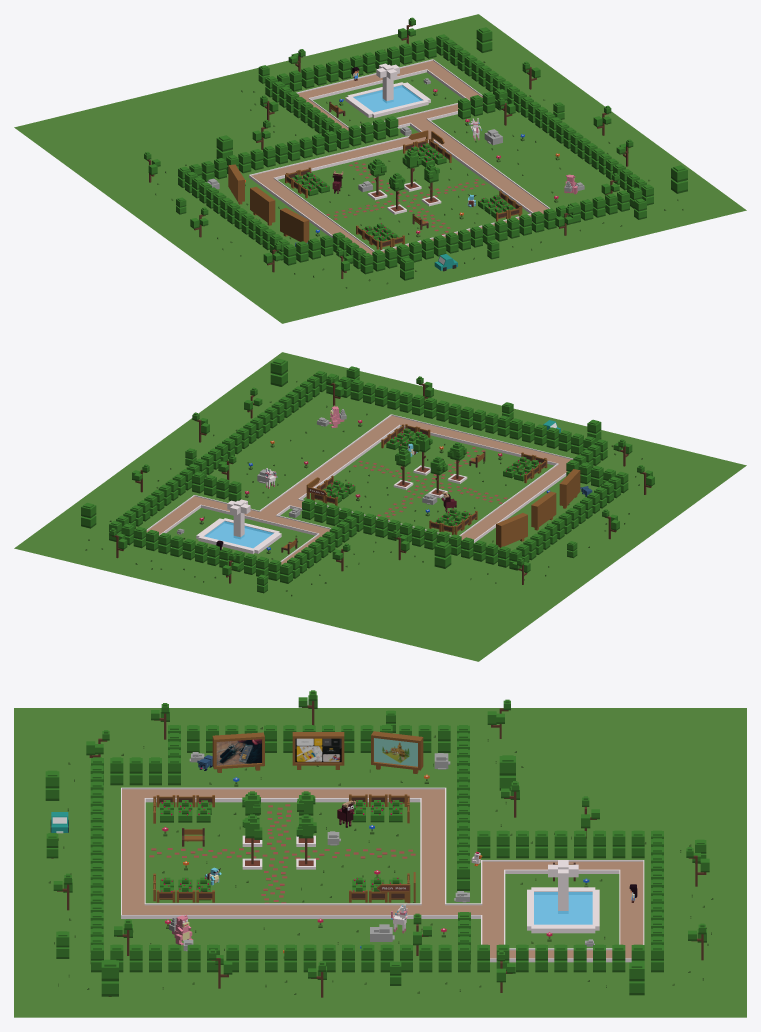
File: Portfolio.glb
The picture shows the model from 3 angles, top to bottom: view 1: azimuth 30°, elevation 25°; view 2: azimuth 150°, elevation 25°; view 3: azimuth 270°, elevation 25°; orthographic projection. The views are drawn at different scales.
Visible parts, largest first — view 1: Level, Spartner, Lepetit; view 2: Level, School, Lepetit, Spartner; view 3: Level, Spartner, School, Lepetit.
Part boxes in pixels (x1,y1,x2,y2): Level: [14, 14, 746, 323]; Spartner: [280, 208, 309, 242]; Lepetit: [250, 186, 275, 225]; Level: [14, 352, 746, 661]; School: [496, 513, 527, 547]; Lepetit: [531, 491, 556, 530]; Spartner: [559, 469, 580, 508]; Level: [14, 690, 746, 1017]; Spartner: [212, 732, 264, 772]; School: [371, 731, 423, 773]; Lepetit: [292, 732, 344, 769].
Size of what is drawn, in the model's own units: 200 by 15.33 by 200.
44 materials, 3 textured.
